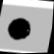correct: (4, 13, 37, 44)
